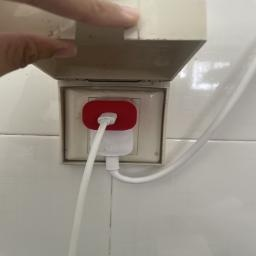outlet: (53, 84, 185, 175)
